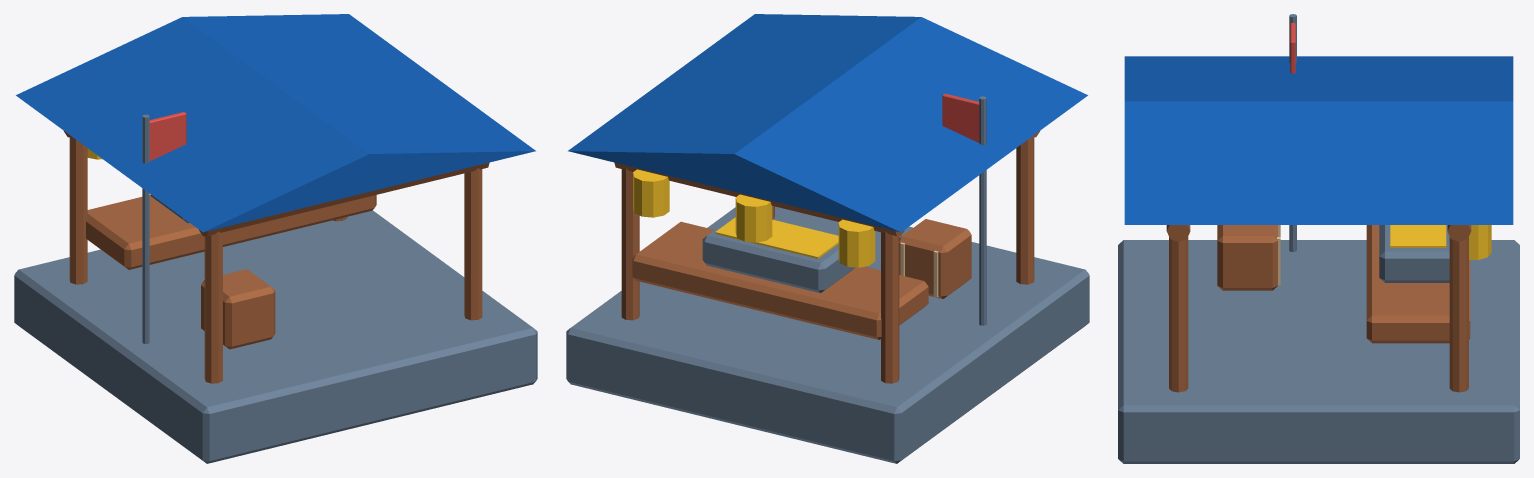
File: Harbor_Stage5_v001.fbx
The picture shows the model from 3 angles, left to right: view 1: azimuth 30°, elevation 25°; view 2: azimuth 150°, elevation 25°; view 3: azimuth 270°, elevation 25°; orthographic projection. The views are drawn at different scales.
Visible parts, largest first — view 1: StoneFoundation, Roof, FestivalCounter, Crate, Post.001, Post.003, Post.002, BannerPost, Beam.001, FestivalBanner; view 2: Roof, StoneFoundation, FestivalCounter, OdenPot, Crate, Post.002, Post.003, Post, OdenBroth, Lantern_Anim.001, Lantern_Anim.002, BannerPost (+3 smaller); view 3: StoneFoundation, Roof, FestivalCounter, Crate, Post, Post.001, OdenPot, OdenBroth, Lantern_Anim, BannerPost.
Part boxes in pixels (x1,y1,x2,y2): StoneFoundation: [14, 210, 537, 463]; Roof: [16, 14, 535, 232]; FestivalCounter: [86, 194, 376, 269]; Crate: [201, 269, 275, 349]; Post.001: [464, 168, 482, 320]; Post.003: [204, 231, 222, 383]; Post.002: [69, 137, 87, 284]; BannerPost: [142, 114, 149, 343]; Beam.001: [199, 162, 489, 236]; FestivalBanner: [149, 112, 186, 160]; Roof: [568, 14, 1087, 232]; StoneFoundation: [566, 206, 1089, 463]; FestivalCounter: [632, 221, 928, 339]; OdenPot: [702, 215, 855, 293]; Crate: [899, 219, 971, 298]; Post.002: [881, 231, 899, 383]; Post.003: [1016, 137, 1034, 284]; Post: [621, 168, 639, 320]; OdenBroth: [715, 217, 838, 258]; Lantern_Anim.001: [735, 194, 772, 242]; Lantern_Anim.002: [838, 219, 875, 267]; BannerPost: [979, 96, 986, 325]; StoneFoundation: [1118, 240, 1519, 463]; Roof: [1124, 56, 1513, 224]; FestivalCounter: [1366, 225, 1470, 343]; Crate: [1217, 225, 1277, 290]; Post: [1449, 236, 1468, 392]; Post.001: [1169, 236, 1188, 392]; OdenPot: [1379, 225, 1449, 282]; OdenBroth: [1390, 225, 1446, 247]; Lantern_Anim: [1469, 225, 1491, 259]; BannerPost: [1289, 14, 1296, 251].
Bounding box in the file's own units: 186 × 150 × 186.
